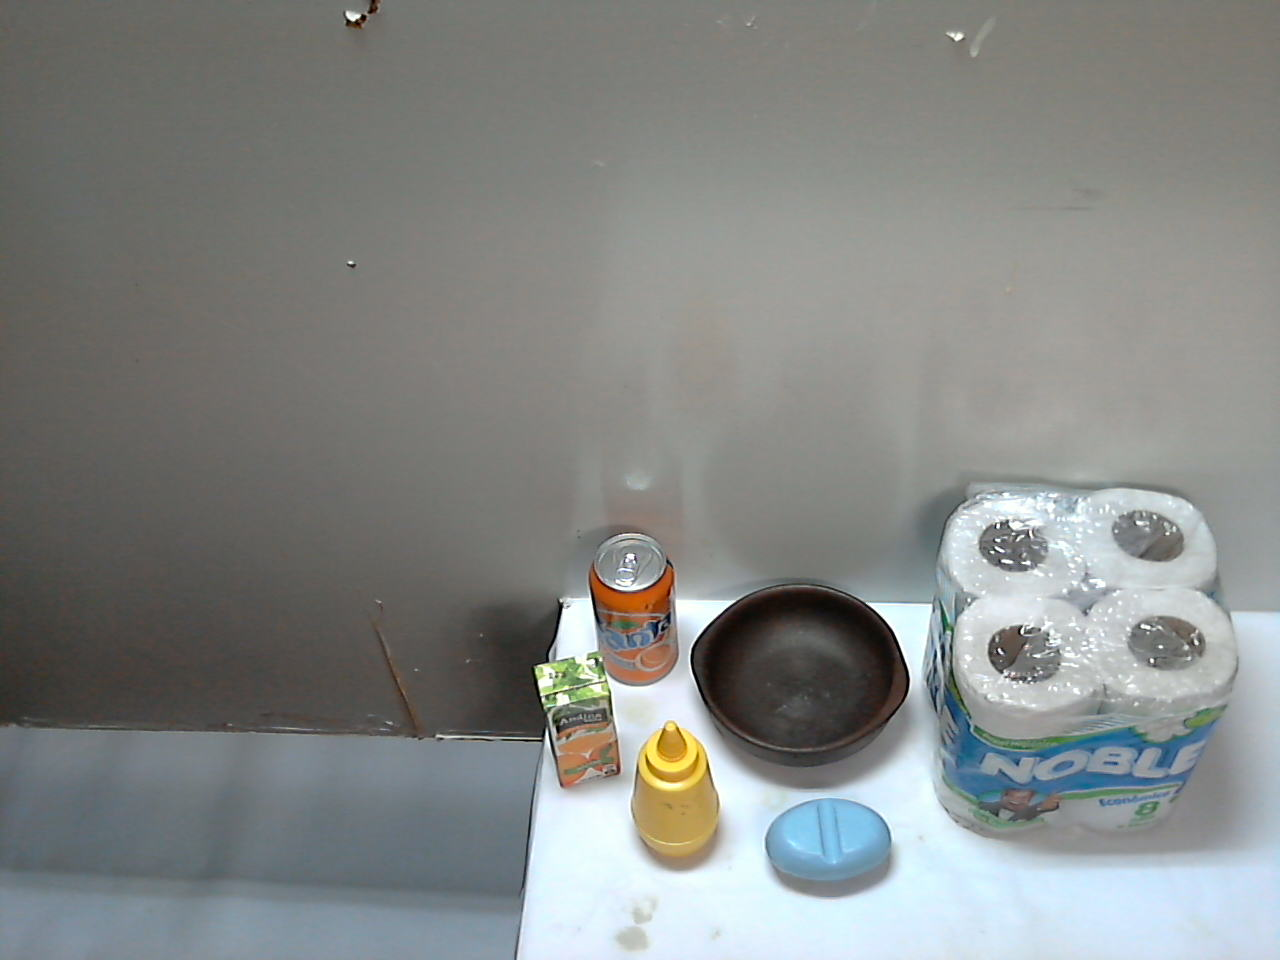coca: (467, 667, 570, 861)
durazno: (498, 581, 635, 729)
estuche: (902, 797, 1164, 945)
linterna: (726, 789, 905, 945)
mantequilla: (588, 782, 733, 881)
uslero: (627, 656, 1138, 803)
